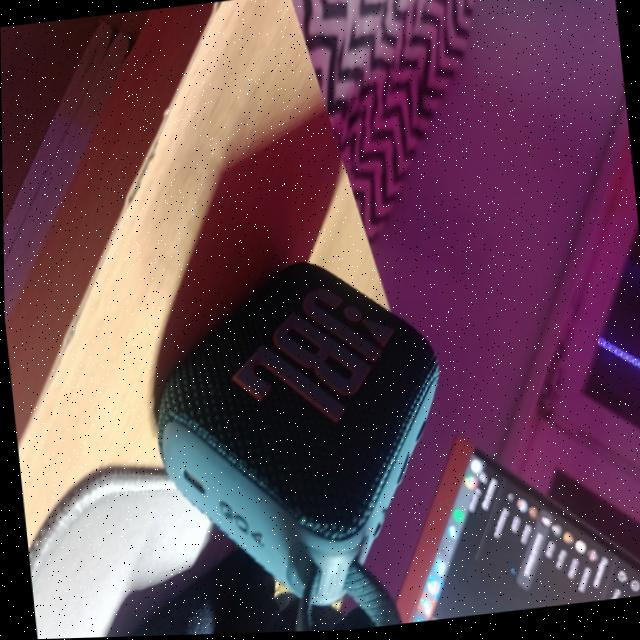column JBL: (134, 240, 528, 637)
